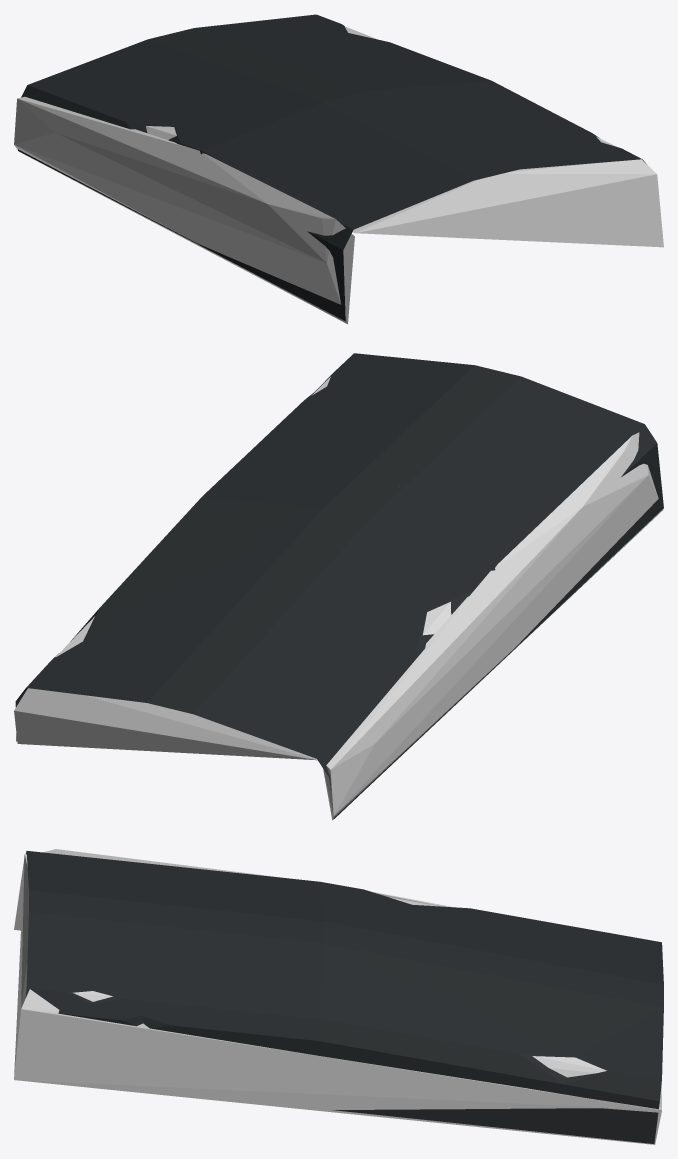
File: SM_Prop_CryoBed_Lid_Glass_01.fbx
3 views of the same model, one above another, from view 1: azimuth 30°, elevation 25°; view 2: azimuth 150°, elevation 25°; view 3: azimuth 270°, elevation 25° (orthographic). The views are drawn at different scales.
Parts seen in each view (by area): view 1: SM_Prop_CryoBed_Lid_Glass_01_LOD0, SM_Prop_CryoBed_Lid_Glass_01_ConvexHulls; view 2: SM_Prop_CryoBed_Lid_Glass_01_LOD0, SM_Prop_CryoBed_Lid_Glass_01_ConvexHulls; view 3: SM_Prop_CryoBed_Lid_Glass_01_LOD0, SM_Prop_CryoBed_Lid_Glass_01_ConvexHulls.
Boxes of the visible parts, left/top/right/bottom form: SM_Prop_CryoBed_Lid_Glass_01_LOD0: left=18, top=14, right=646, bottom=321; SM_Prop_CryoBed_Lid_Glass_01_ConvexHulls: left=14, top=26, right=663, bottom=324; SM_Prop_CryoBed_Lid_Glass_01_LOD0: left=15, top=353, right=663, bottom=818; SM_Prop_CryoBed_Lid_Glass_01_ConvexHulls: left=14, top=376, right=663, bottom=820; SM_Prop_CryoBed_Lid_Glass_01_LOD0: left=25, top=851, right=663, bottom=1143; SM_Prop_CryoBed_Lid_Glass_01_ConvexHulls: left=14, top=849, right=661, bottom=1144.
Size of the model in its own units: 213 by 118 by 61.28.
Materials: 1 (1 with a texture image).
